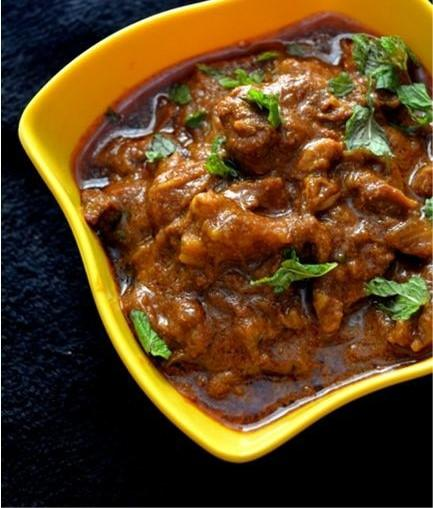MuttonCurry: (72, 12, 433, 429)
